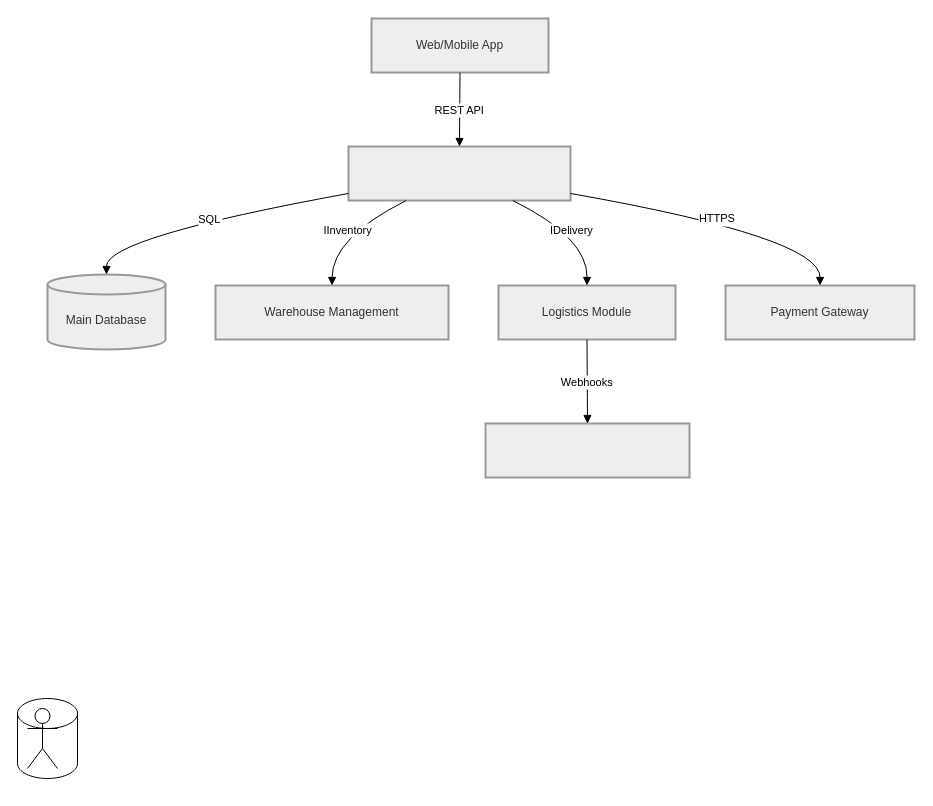
Some shapes in this 933 by 806 pixel diagram are drawn without their labels. The shapes that lost their labels are listed below. From the top down, each one's centre as x and y in pixels, then its label:
At (x=459, y=173): "Order Backend Service".
At (x=587, y=450): "Courier External API".
At (x=42, y=738): "Actor".
